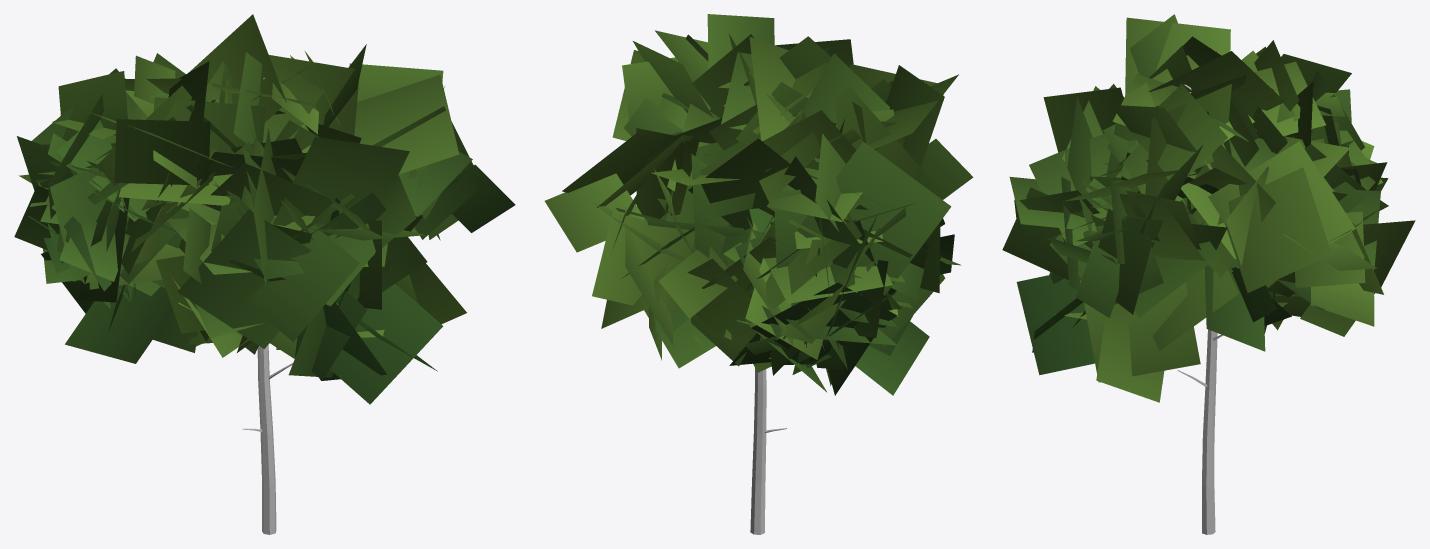
The model's file is sample_tree.obj.
3 renders of one model, left to right at view 1: azimuth 30°, elevation 25°; view 2: azimuth 150°, elevation 25°; view 3: azimuth 270°, elevation 25°, orthographic. The views are drawn at different scales.
Bounding box in the file's own units: 5.32 × 6.75 × 5.27.
